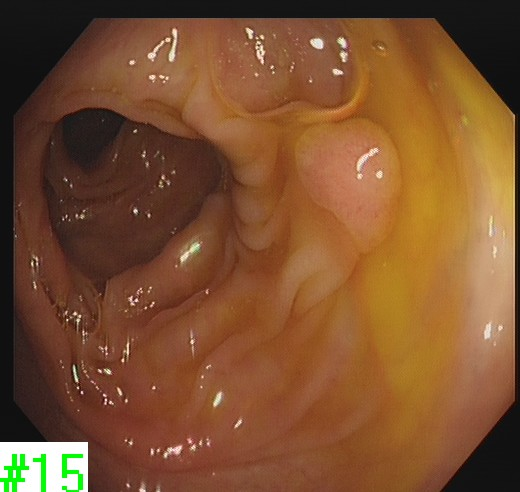adenoma: (291, 115, 404, 255)
